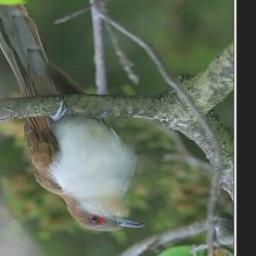Cuckoo: (0, 0, 148, 233)
